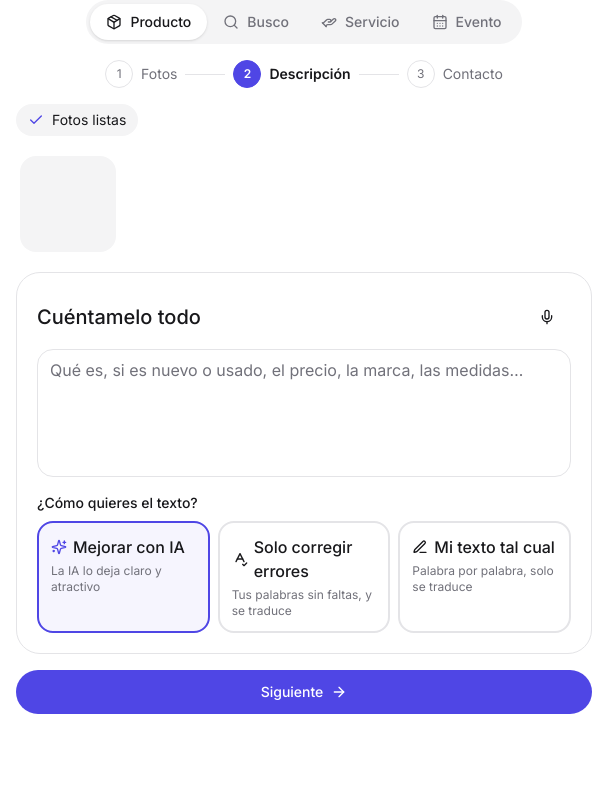
Test case: ListingWorkspace type tabs › goes back to the old type when the switch could not be saved
The image size is (609, 793).
What coordinates should you click on to do the following:
click the radio button labelled "Busco"
I would click on:
 (256, 22)
Its box is [207,4,305,40].
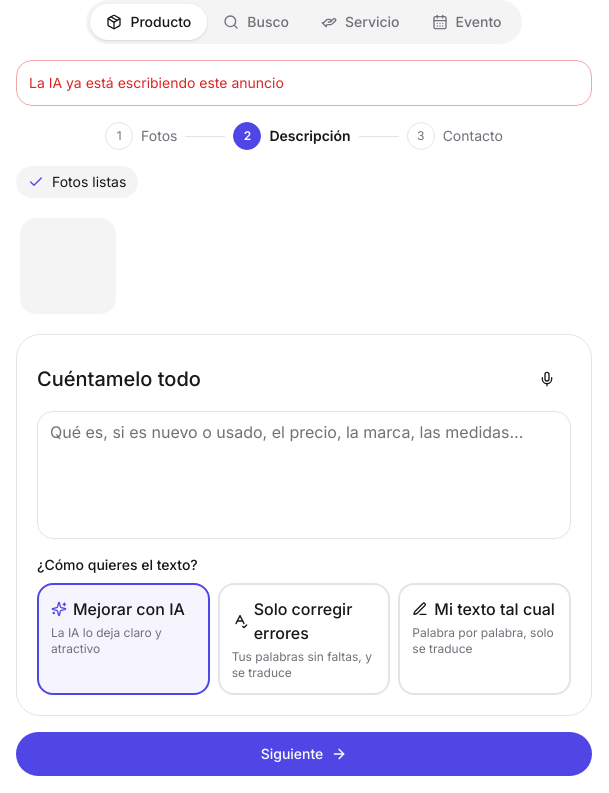
expect the message reads "La IA ya está escribiendo este anuncio": met, box [29,74,284,91]
